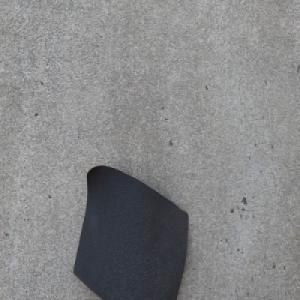PaintChip: (72, 163, 189, 300)
